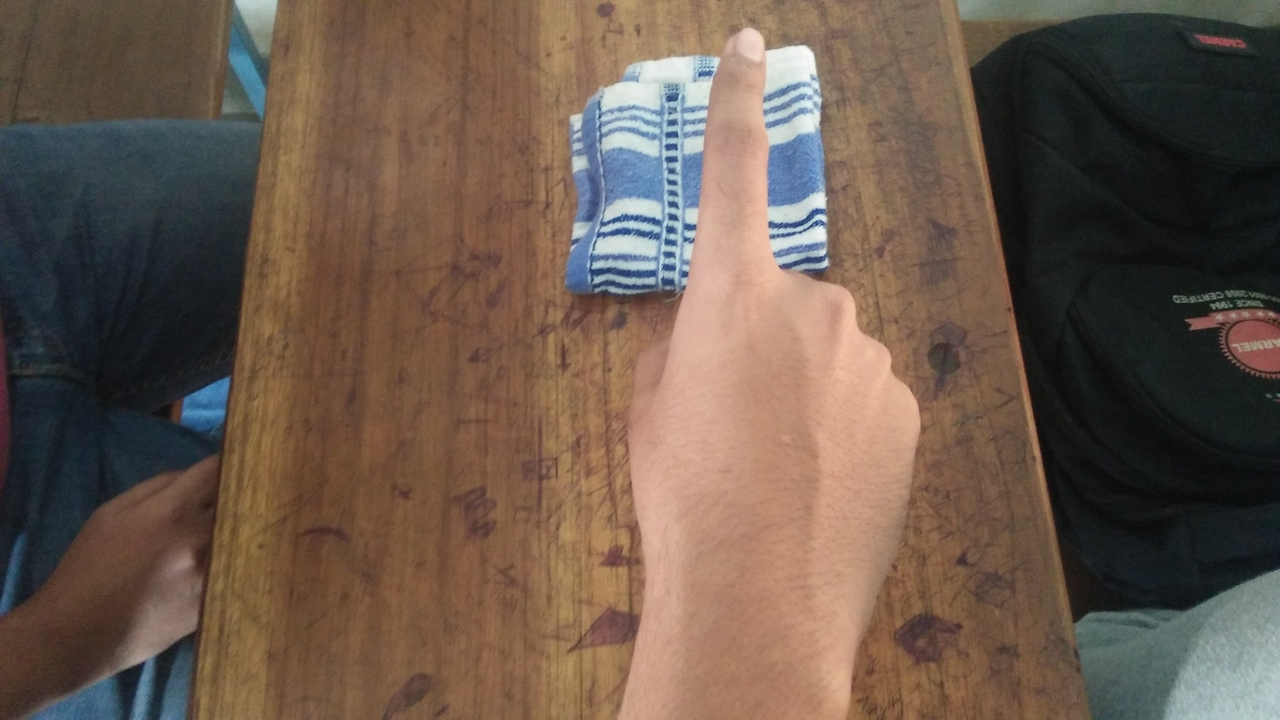fingertip: (718, 28, 766, 78)
